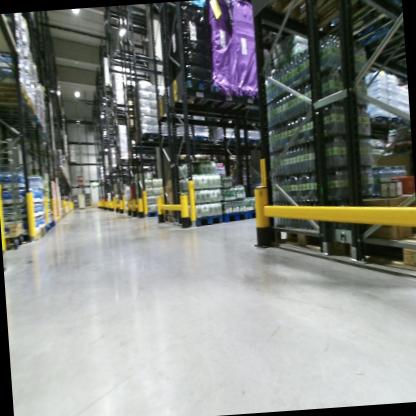pallet: (256, 0, 375, 41), (268, 216, 334, 262), (353, 234, 416, 277), (195, 82, 246, 120), (171, 76, 217, 111), (166, 211, 223, 229), (0, 94, 37, 121), (0, 76, 29, 105), (218, 208, 248, 226), (11, 231, 43, 245), (3, 234, 23, 252), (38, 226, 46, 239)
